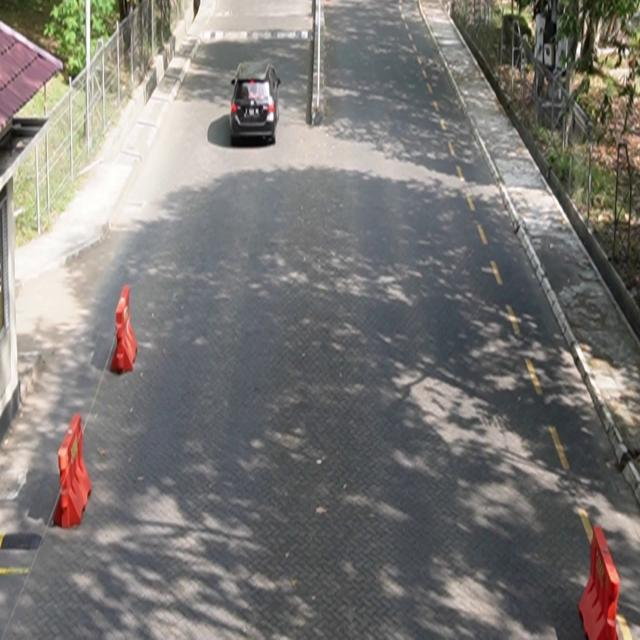car: (230, 61, 282, 146)
